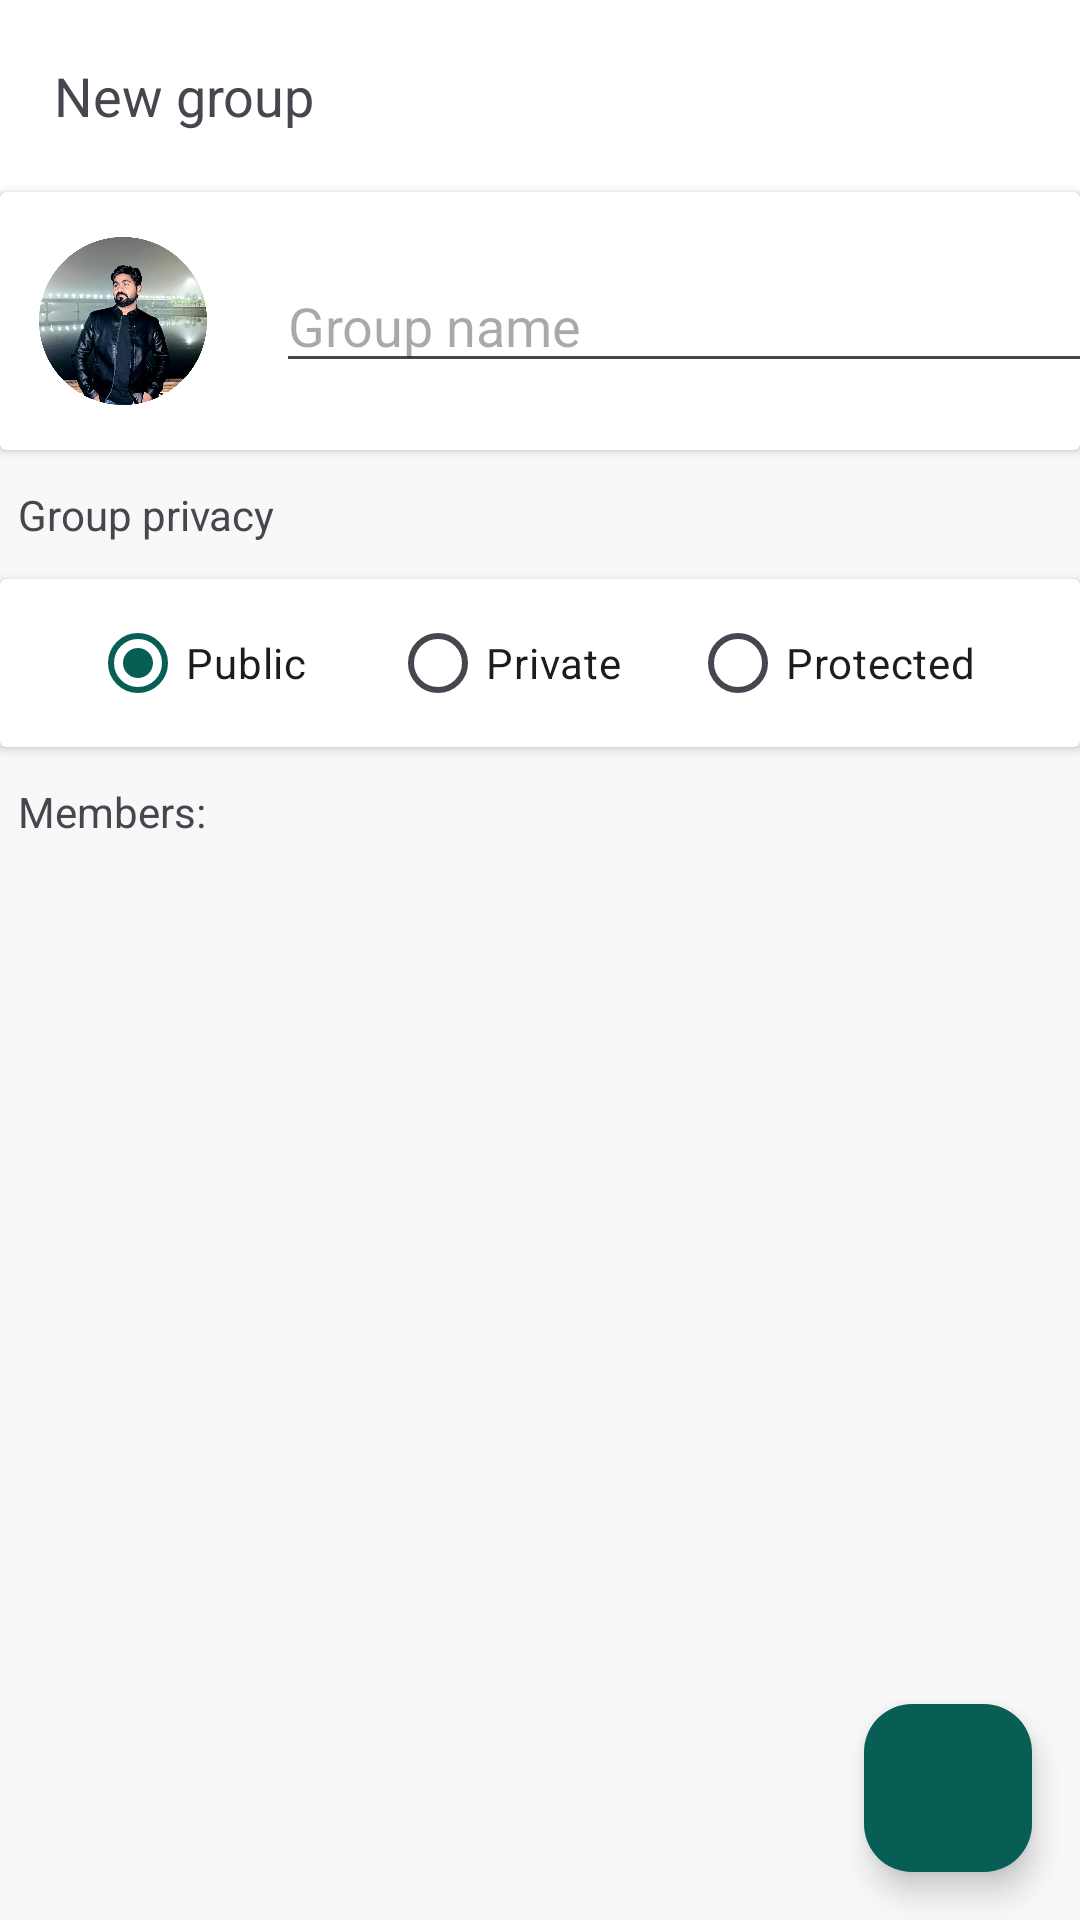

Icon bounding boxes for this 1080*1920 phone screenshot, format (x1, y1, x2, y2):
profile: (39, 237, 207, 405)
